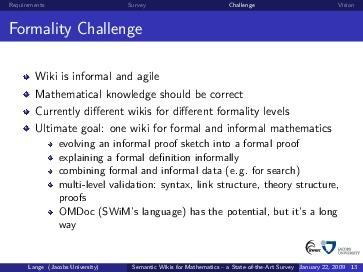paragraph: (19, 53, 351, 235)
title: (7, 16, 145, 39)
